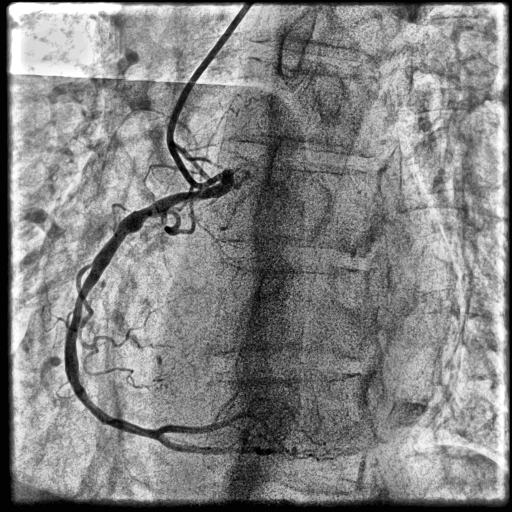pborca: (156, 413, 269, 435)
pda: (157, 436, 284, 456)
rca: (65, 172, 233, 439)
